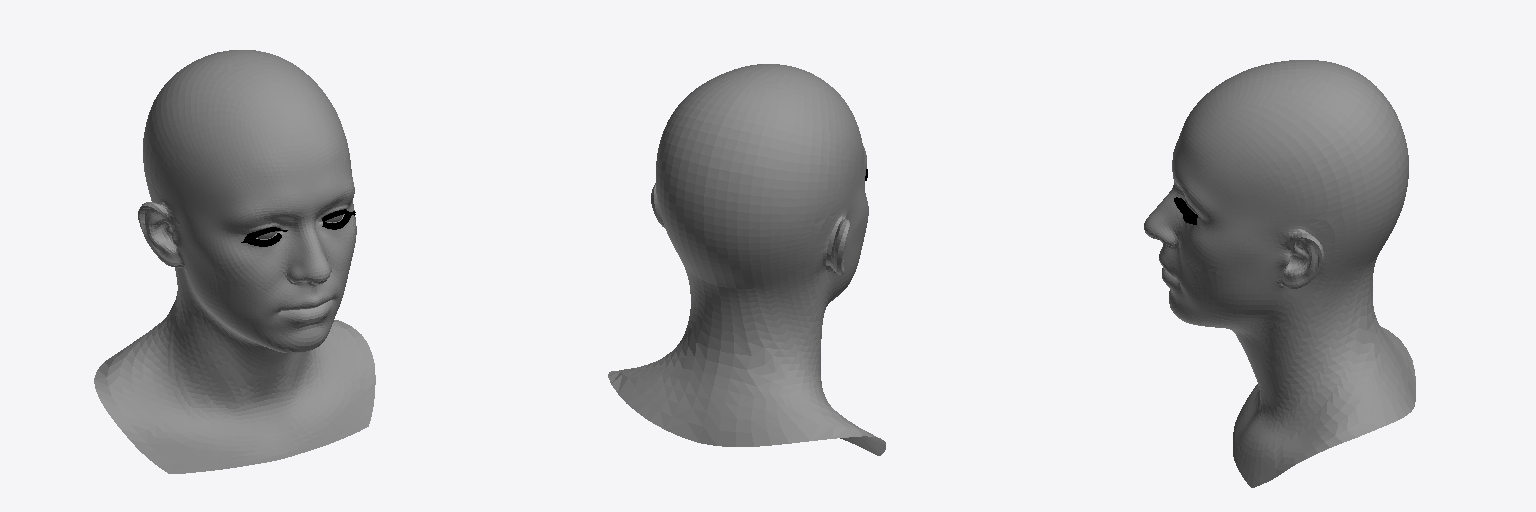
The model's file is identity033.obj.
3 renders of one model, left to right at view 1: azimuth 30°, elevation 25°; view 2: azimuth 150°, elevation 25°; view 3: azimuth 270°, elevation 25°, orthographic.
Bounding box in the file's own units: 24.83 × 33.81 × 22.33.